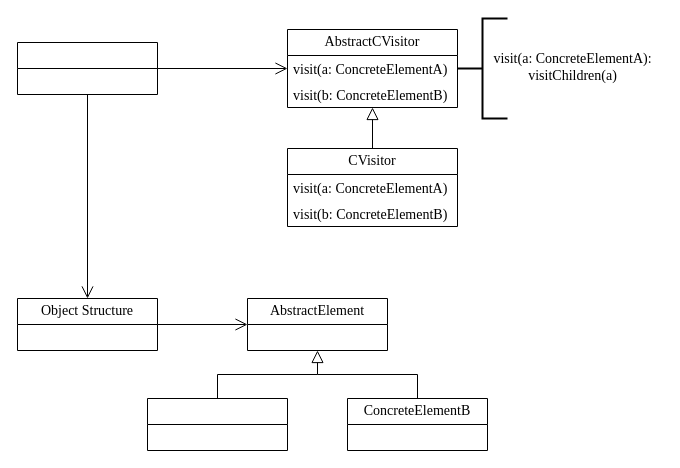
Image size: 680x468. Some labels were removed from this diagram. The shapes that lost their labels are listed below. From the top down, each one's centre as x and y in pixels, then its label:
(87,68): Client
(217,424): ConcreteElementA
